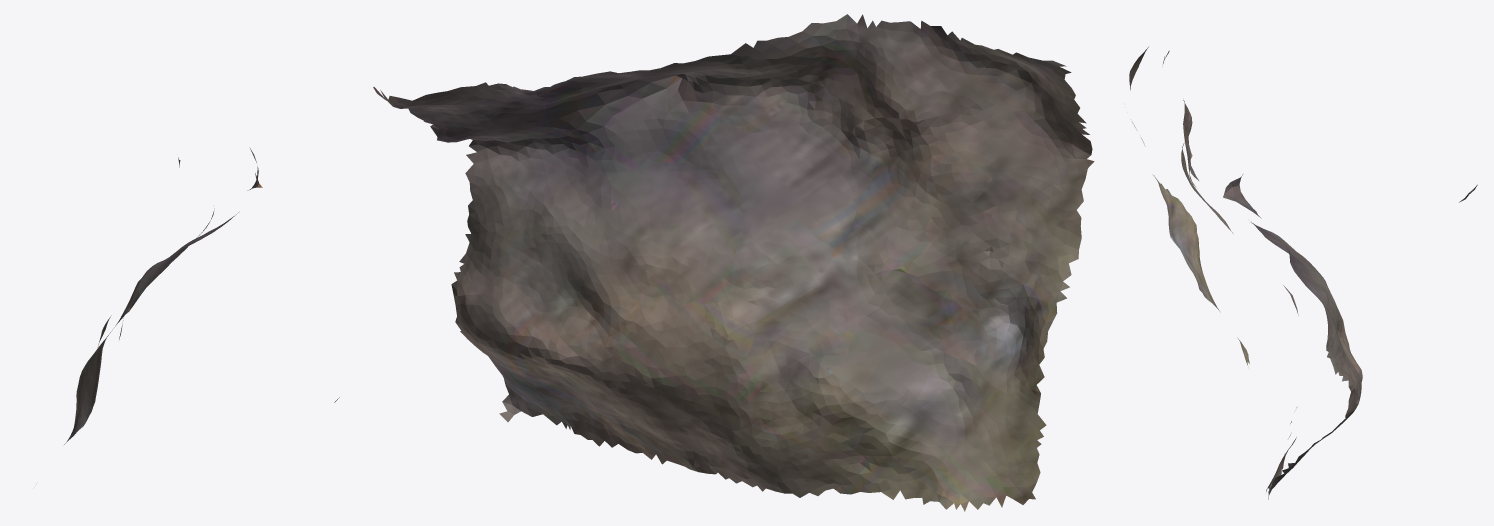
The model's file is tile_0057.gltf.
3 renders of one model, left to right at view 1: azimuth 30°, elevation 25°; view 2: azimuth 150°, elevation 25°; view 3: azimuth 270°, elevation 25°, orthographic. The views are drawn at different scales.
Visible parts, largest first — view 1: defaultobject; view 2: defaultobject; view 3: defaultobject.
Boxes of the visible parts, left/top/right/bottom form: defaultobject: left=64, top=147, right=339, bottom=444; defaultobject: left=373, top=14, right=1094, bottom=511; defaultobject: left=1129, top=47, right=1477, bottom=499.
Bounding box in the file's own units: 0.2825 × 0.235 × 0.2311.
Materials: 2 (2 with a texture image).
